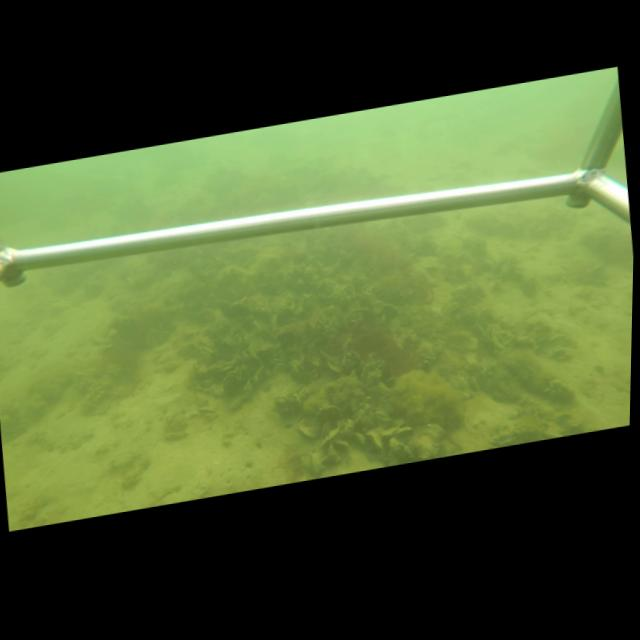Oyster-Closed: (365, 431, 385, 454), (253, 365, 264, 387), (229, 395, 241, 409)
Oyster-Indeterminate: (296, 423, 320, 439), (323, 359, 344, 375), (320, 427, 339, 443)
Oyster-Open: (196, 405, 219, 417)
